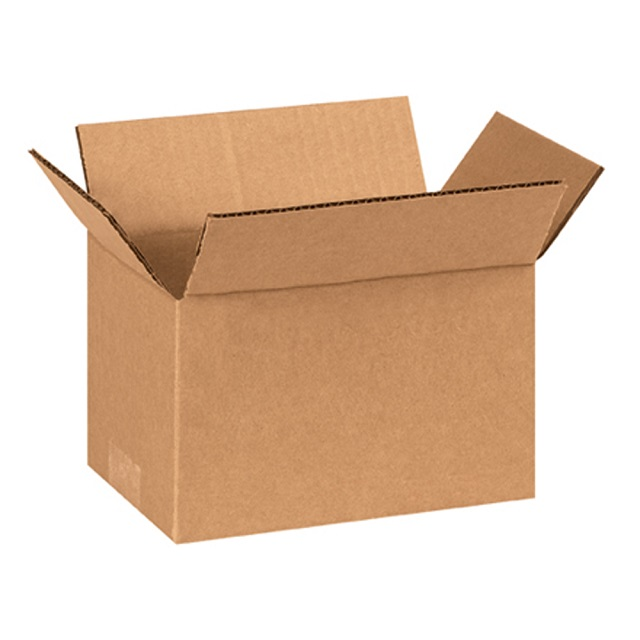box: (29, 95, 605, 545)
